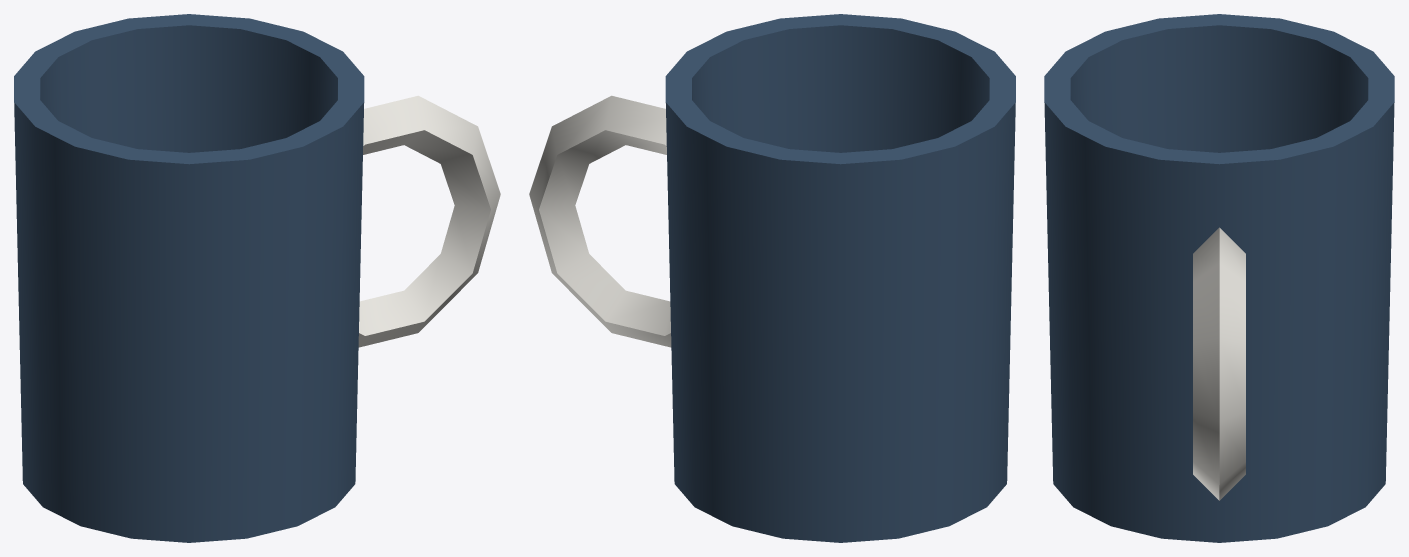
The model's file is prop_mug.glb.
The picture shows the model from 3 angles, left to right: view 1: azimuth 30°, elevation 25°; view 2: azimuth 150°, elevation 25°; view 3: azimuth 270°, elevation 25°; orthographic projection.
Parts seen in each view (by area): view 1: Mug; view 2: Mug; view 3: Mug.
Part boxes in pixels (left/top/right/bottom): Mug: left=14, top=14, right=500, bottom=542; Mug: left=529, top=14, right=1015, bottom=542; Mug: left=1044, top=14, right=1394, bottom=542.
Size of the model in its own units: 0.121 by 0.095 by 0.0788.
